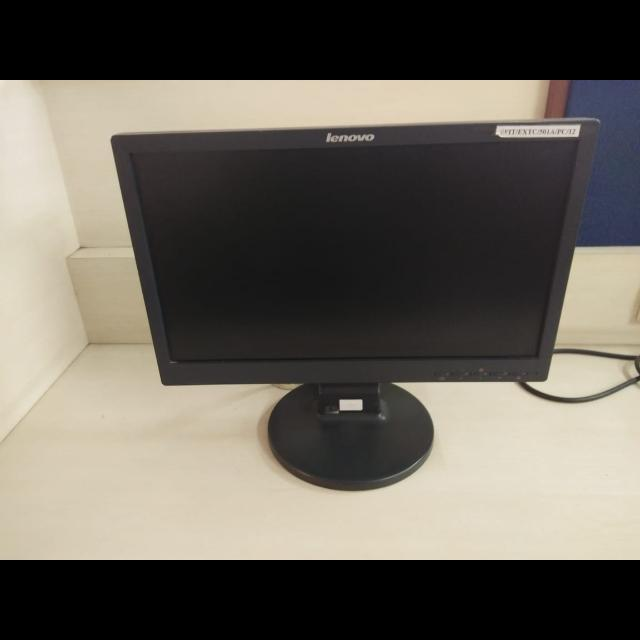Flat-Panel-Monitor: (107, 114, 603, 496)
